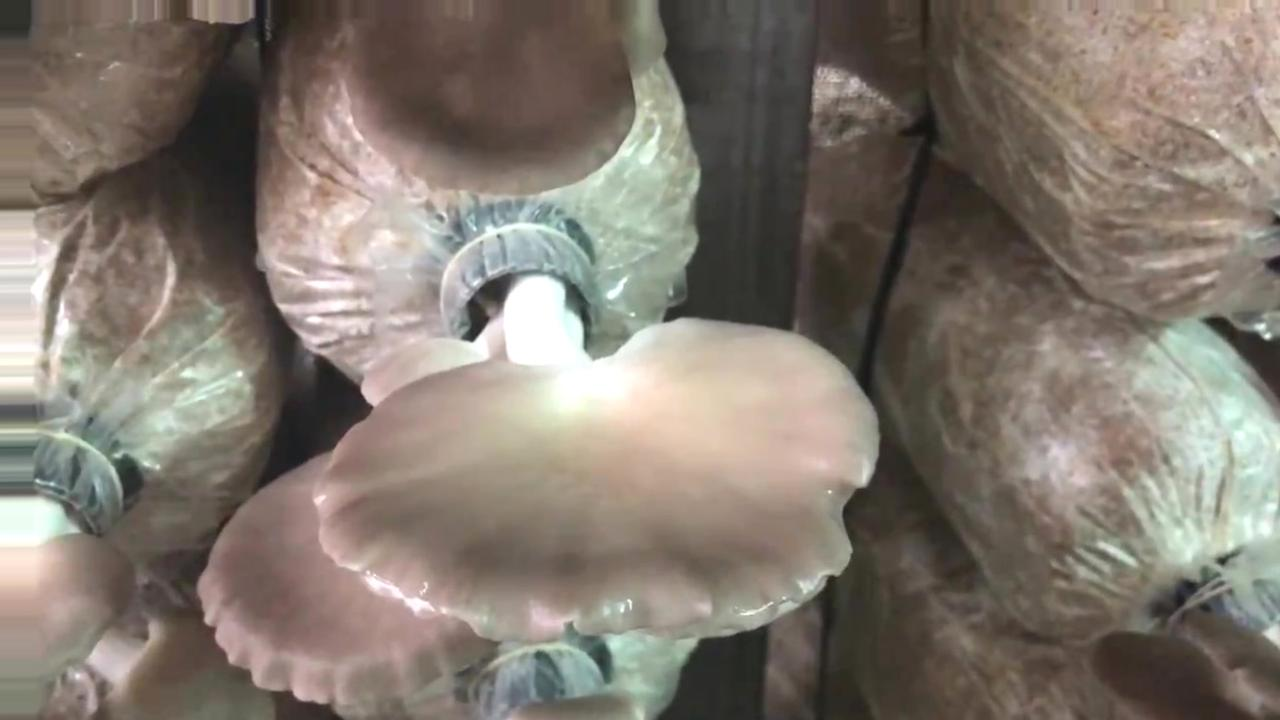nam: (310, 218, 884, 655), (192, 452, 491, 692), (346, 57, 628, 195)
